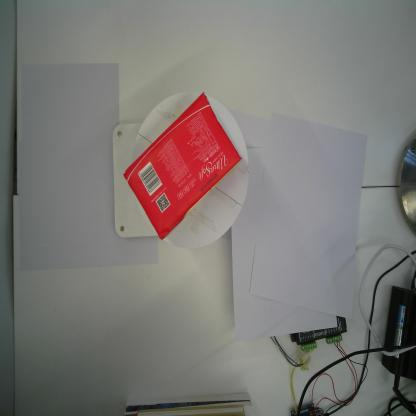Tissue: (121, 90, 245, 242)
